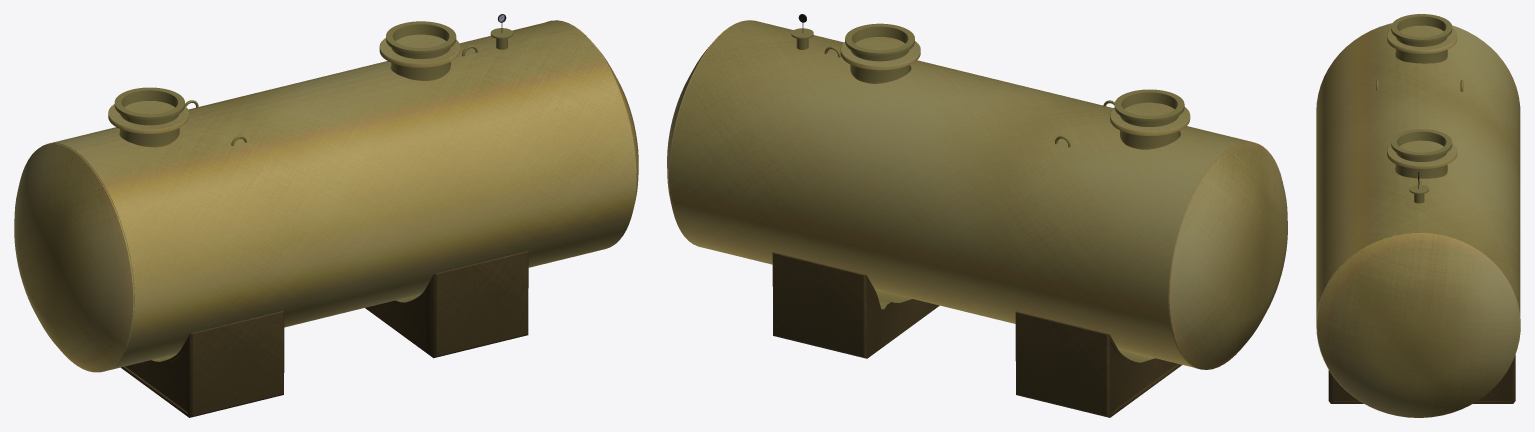
The model's file is woyouguan.FBX.
The picture shows the model from 3 angles, left to right: view 1: azimuth 30°, elevation 25°; view 2: azimuth 150°, elevation 25°; view 3: azimuth 270°, elevation 25°; orthographic projection. The views are drawn at different scales.
Visible parts, largest first — view 1: 对象105, 对象092, 对象014, 对象098, 对象102, 对象104, 对象109; view 2: 对象098, 对象092, 对象014, 对象105, 对象102, 对象104, 对象109; view 3: 对象109, 对象105, 对象098, 对象102, 对象104, 对象092, 对象107.
Boxes of the visible parts, x1,y1,x2,y2 form: 对象105: (75,29,636,370); 对象092: (121,251,528,417); 对象014: (14,143,134,372); 对象098: (38,20,576,151); 对象102: (114,21,456,147); 对象104: (108,34,460,133); 对象109: (546,20,638,210); 对象098: (670,29,1226,367); 对象092: (772,252,1181,417); 对象014: (1168,142,1287,369); 对象105: (728,20,1266,150); 对象102: (845,23,1184,149); 对象104: (840,37,1190,135); 对象109: (667,21,742,247); 对象109: (1317,233,1520,417); 对象105: (1316,23,1418,417); 对象098: (1419,25,1520,314); 对象102: (1391,14,1452,178); 对象104: (1387,25,1457,168); 对象092: (1328,354,1515,403); 对象107: (1409,184,1428,203).
Bounding box in the file's own units: 220 × 105 × 80.25.
4 materials, 4 textured.
